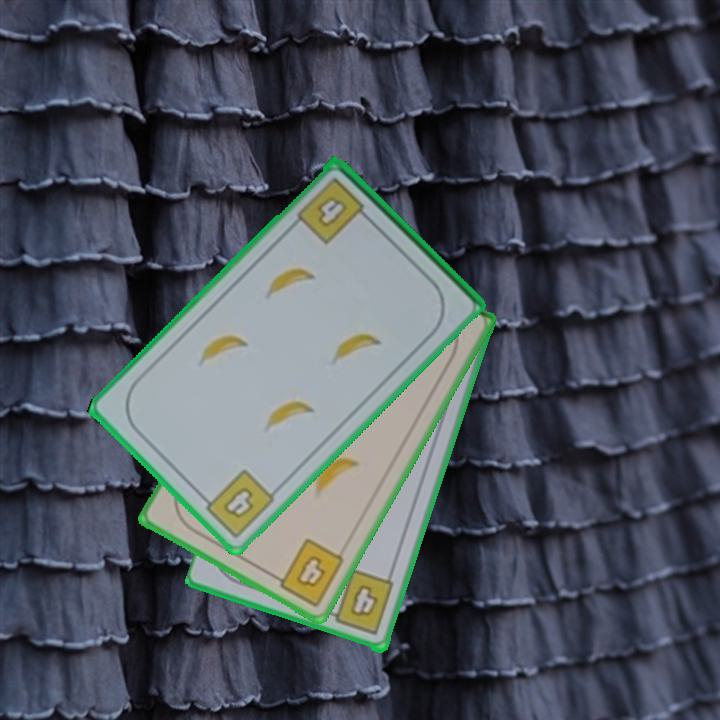4b: (196, 466, 278, 542), (267, 535, 347, 610), (293, 174, 374, 248), (322, 567, 397, 639)
